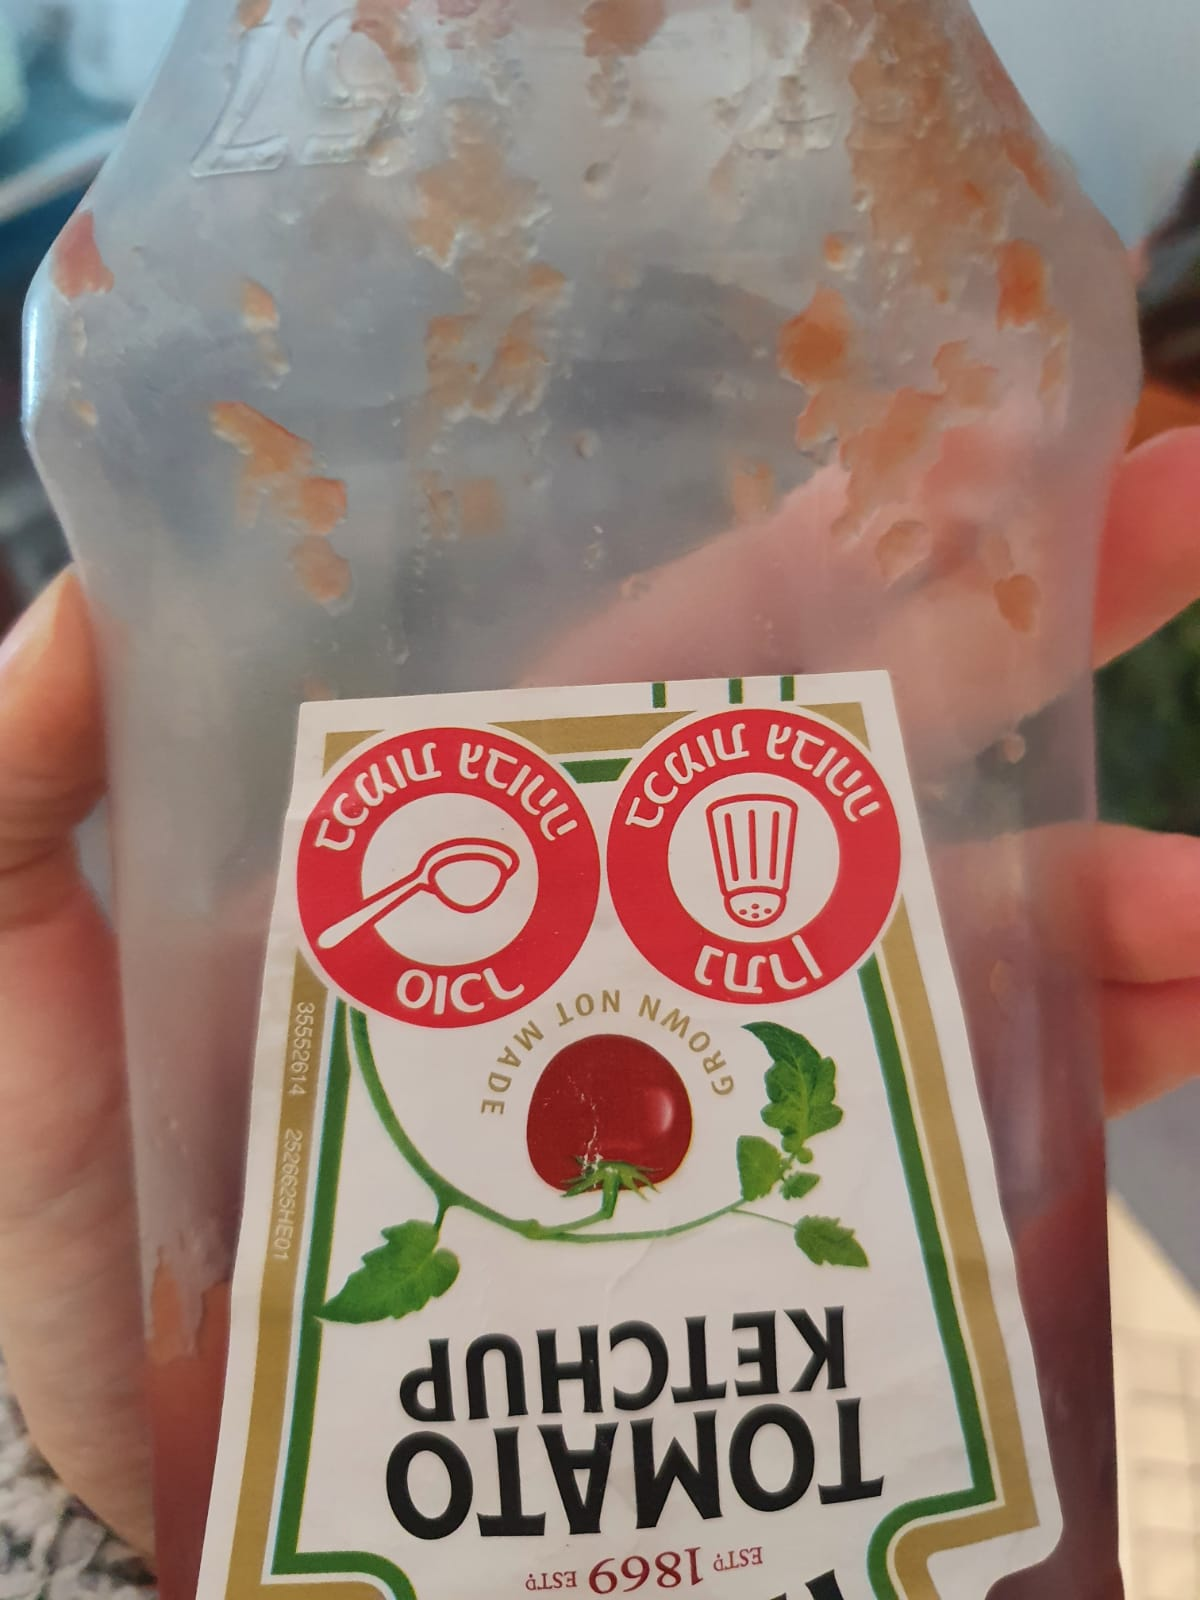salt: (609, 700, 904, 1010)
sugar: (286, 718, 603, 1031)
